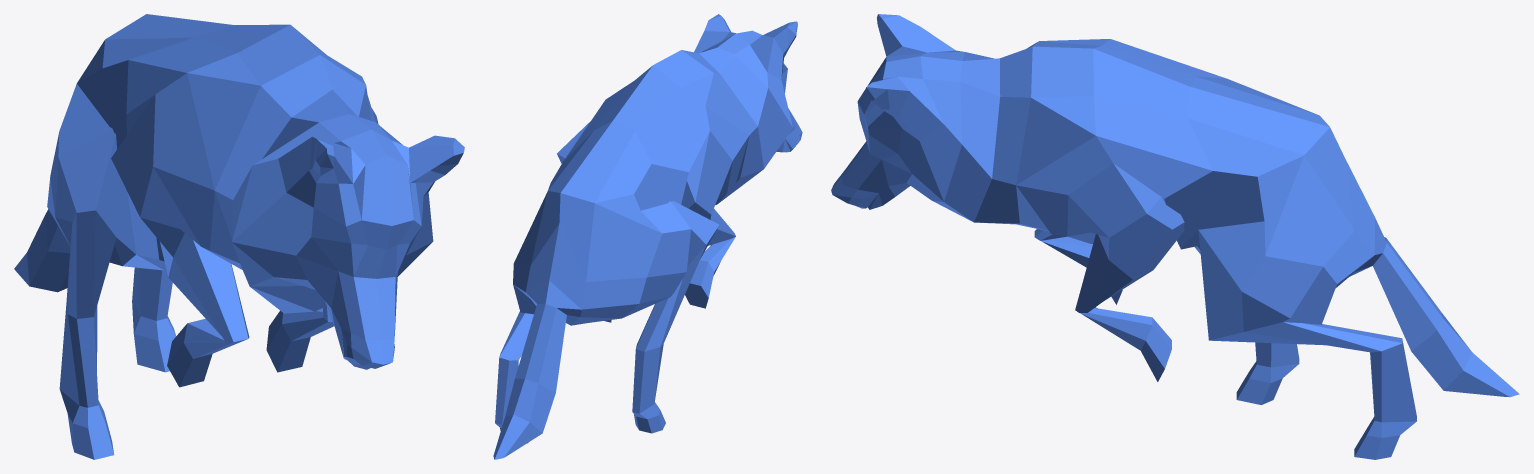
The model's file is wolfRunA_v009015.obj.
3 views of the same model, side by side, from view 1: azimuth 30°, elevation 25°; view 2: azimuth 150°, elevation 25°; view 3: azimuth 270°, elevation 25° (orthographic). The views are drawn at different scales.
Visible parts, largest first — view 1: comp_wolf_rig:wolf_body comp_wolf_rig:wolf; view 2: comp_wolf_rig:wolf_body comp_wolf_rig:wolf; view 3: comp_wolf_rig:wolf_body comp_wolf_rig:wolf.
Part boxes in pixels (bbox=[...]): comp_wolf_rig:wolf_body comp_wolf_rig:wolf: bbox=[14, 14, 464, 459]; comp_wolf_rig:wolf_body comp_wolf_rig:wolf: bbox=[493, 14, 802, 459]; comp_wolf_rig:wolf_body comp_wolf_rig:wolf: bbox=[831, 14, 1519, 459].
Size of the model in its own units: 40.76 by 68.61 by 111.
